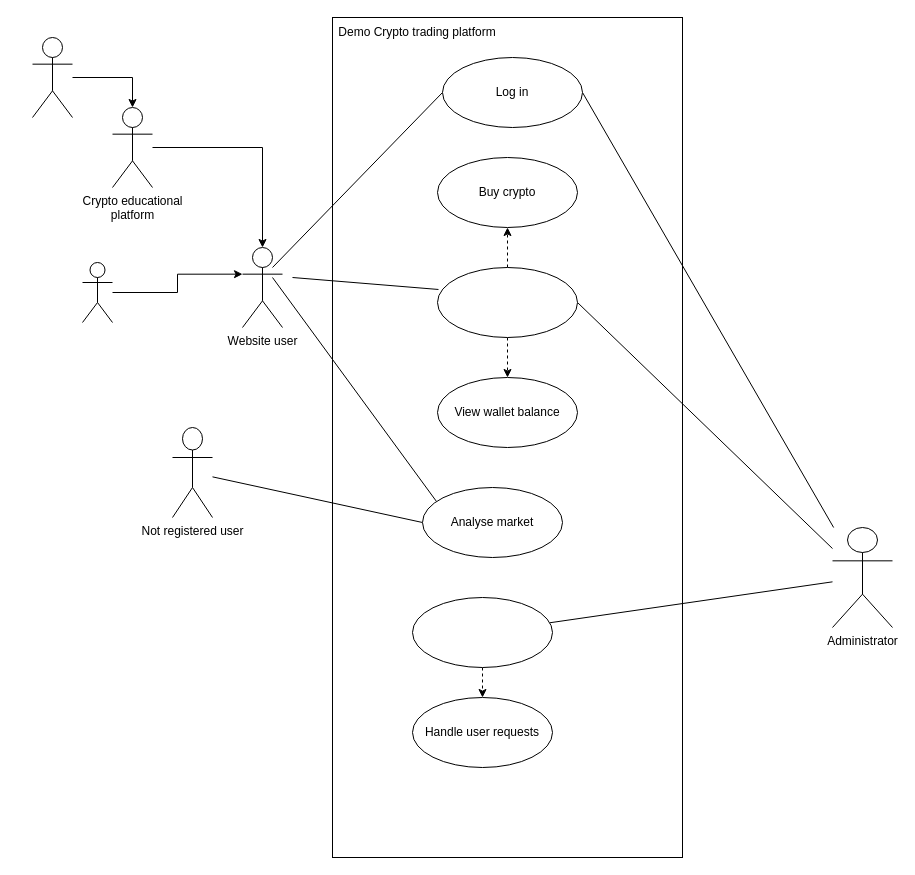
This 915x875 diagram has some shape labels left out. Here are the shapes that lost their labels. From the top down, the centre of each, then its label:
At (52,77): "User learning crypto".
At (97,292): "CryptaOps subscriber".
At (507,302): "Create a wallet".
At (482,632): "Manage User".
